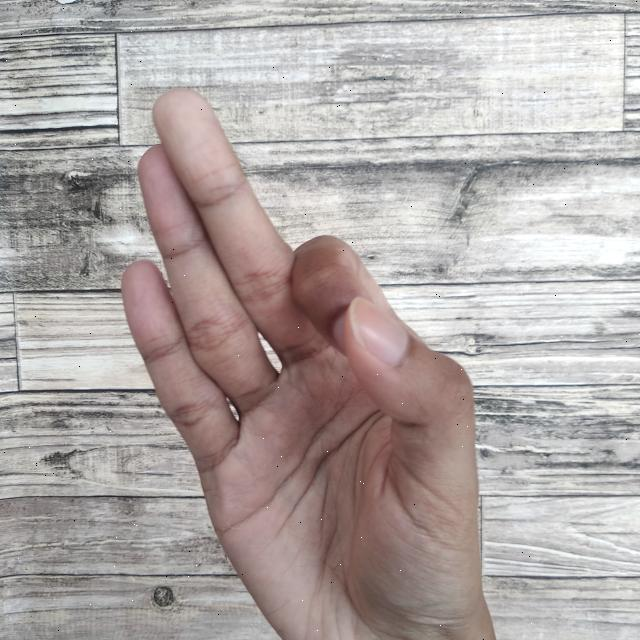F: (119, 85, 496, 640)
